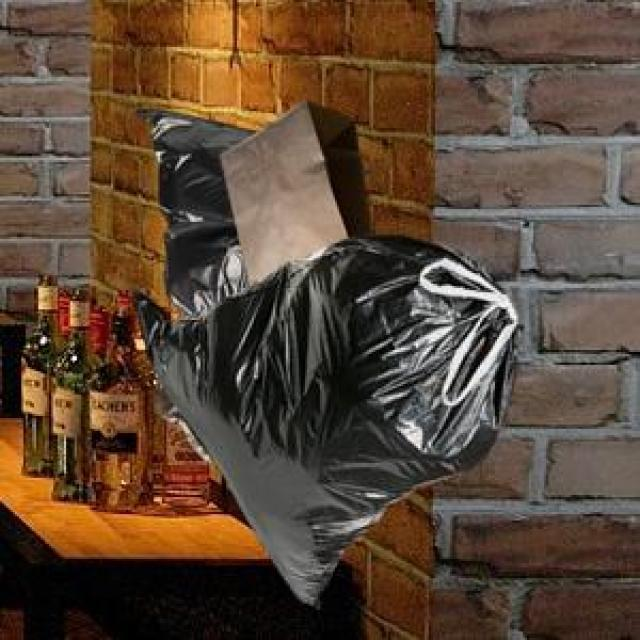miscellaneous trash: (128, 230, 518, 604), (130, 105, 248, 457)
paper: (216, 96, 369, 282)
